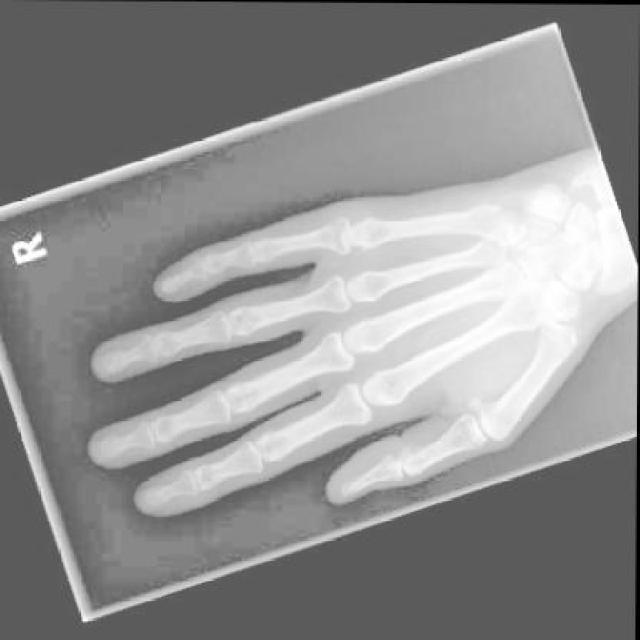Fracture: (391, 443, 431, 483)
